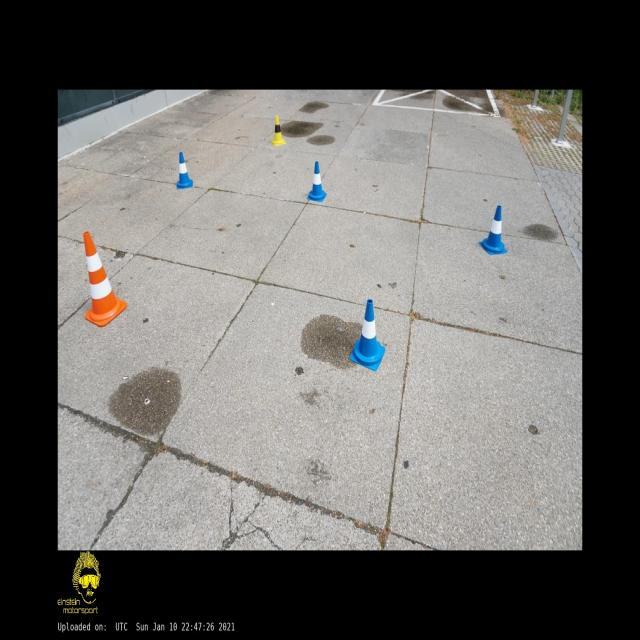blue_cone: (350, 299, 386, 370), (479, 205, 507, 255), (306, 162, 326, 202), (176, 152, 194, 190)
large_orange_cone: (83, 231, 127, 327)
yellow_cone: (272, 115, 286, 146)
